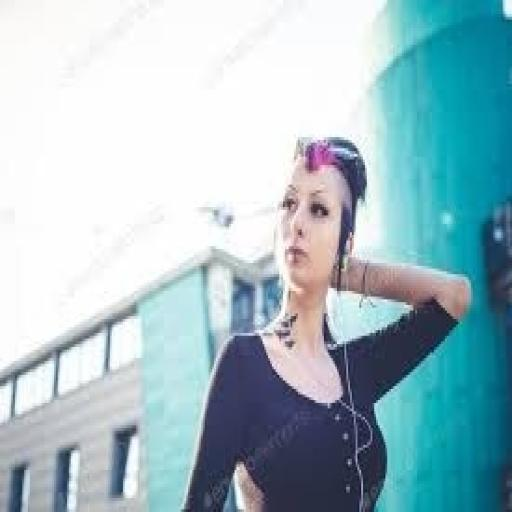listening_to_music: (178, 132, 474, 509)
